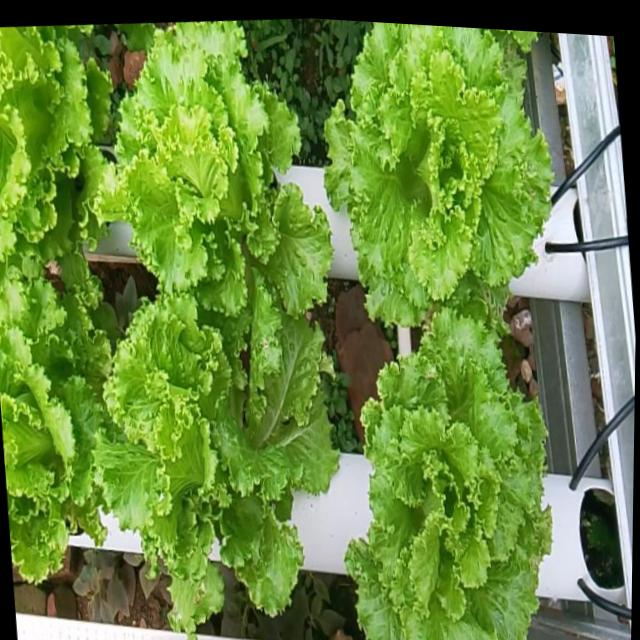Mature: (118, 294, 352, 626), (124, 31, 349, 360), (341, 24, 572, 344), (358, 322, 560, 640), (0, 281, 128, 568), (0, 25, 135, 284)
